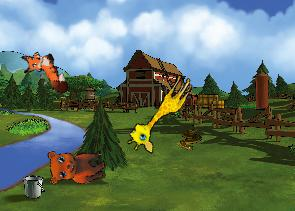bear: (42, 136, 109, 192)
fox: (17, 42, 71, 104)
giraffe: (123, 66, 196, 158)
